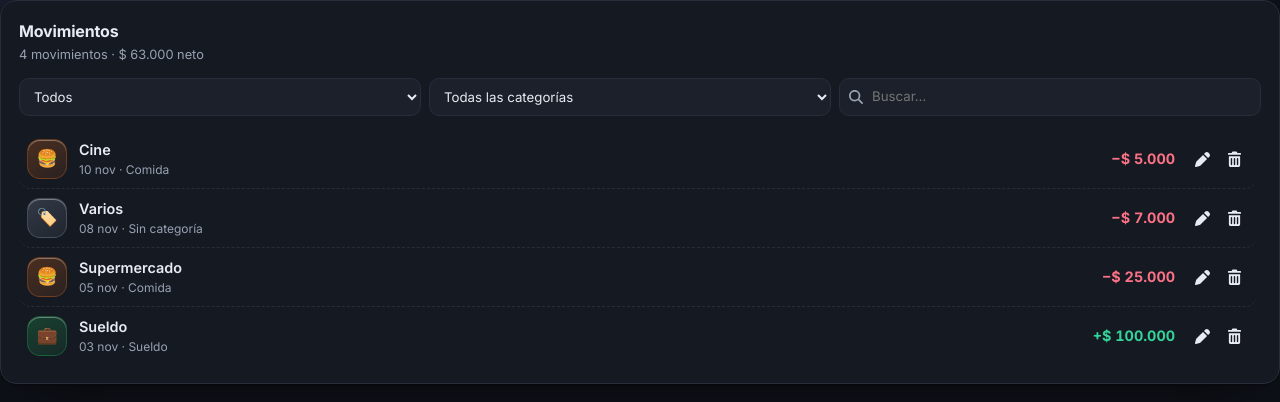
TransactionList › filtra por tipo y por categoría
Select "Ingresos" in the dropdown named "Filtrar por tipo" at (220,97), box [19, 78, 421, 116]
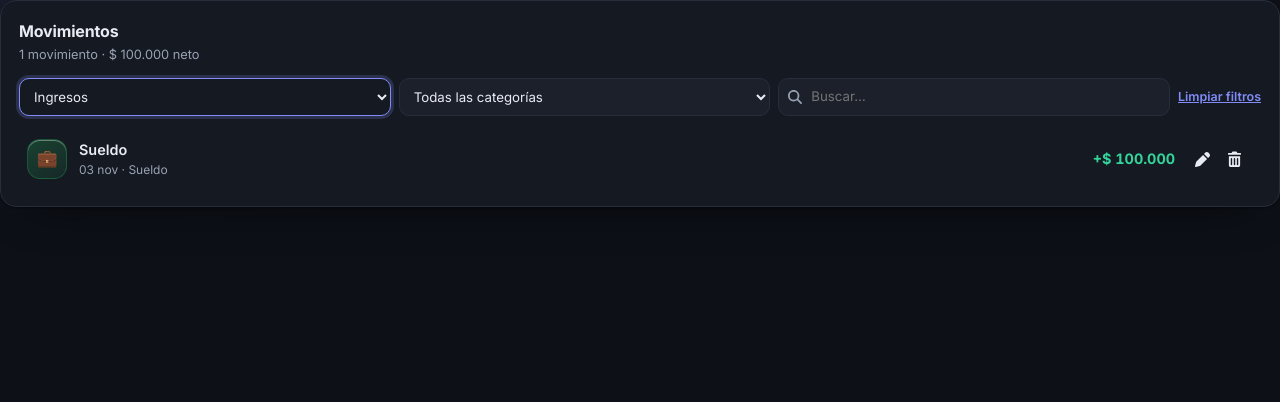
Expected: the text "Sueldo" is shown, [79, 141, 127, 158]
Expected: the text "Supermercado" is gone
Expected: the text "1 movimiento · $ 100.000 neto" is shown, [19, 45, 200, 64]
Select "Todos" in the dropdown named "Filtrar por tipo" at (205,97), box [19, 78, 391, 116]
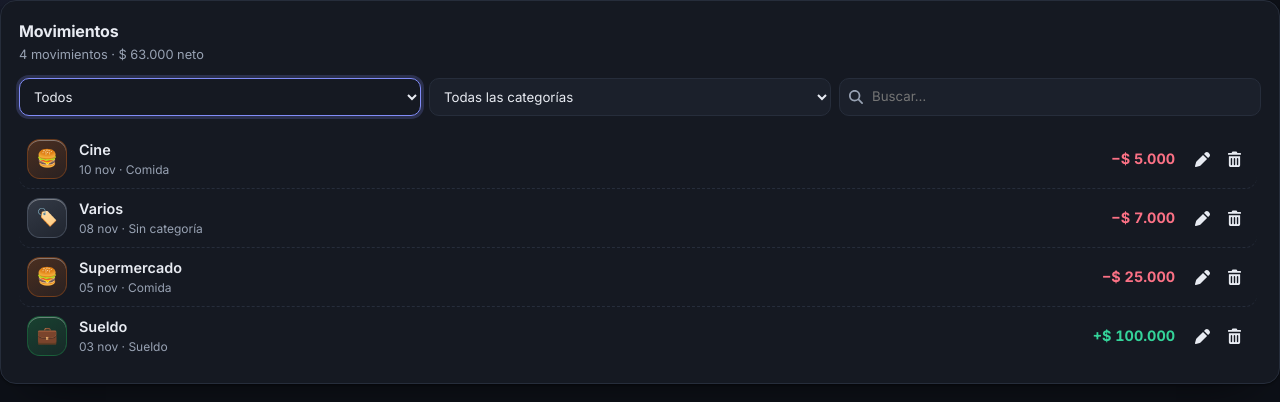
Select "🍔 Comida" in the dropdown named "Filtrar por categoría" at (630,97), box [429, 78, 831, 116]
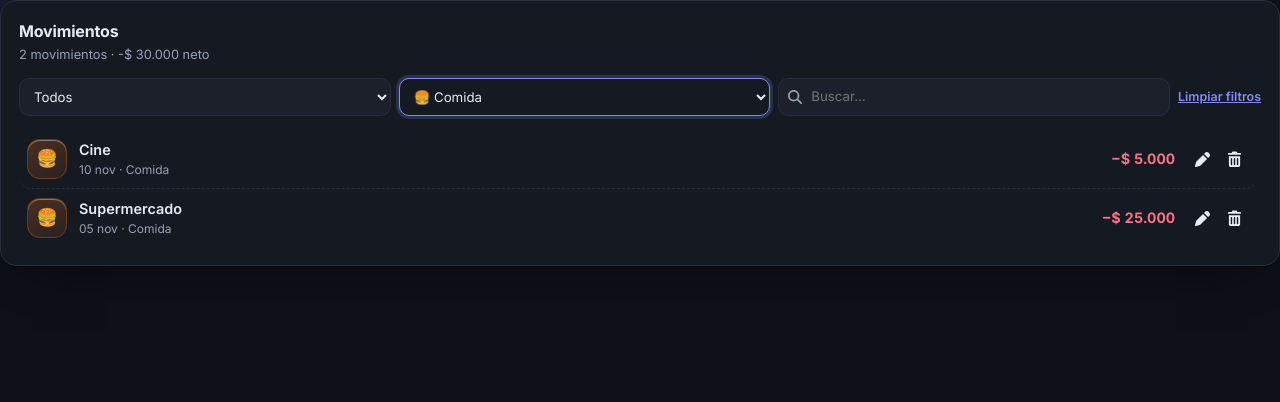
Expected: the text "Supermercado" is shown, [79, 200, 182, 217]
Expected: the text "Cine" is shown, [79, 141, 111, 158]
Expected: the text "Sueldo" is gone
